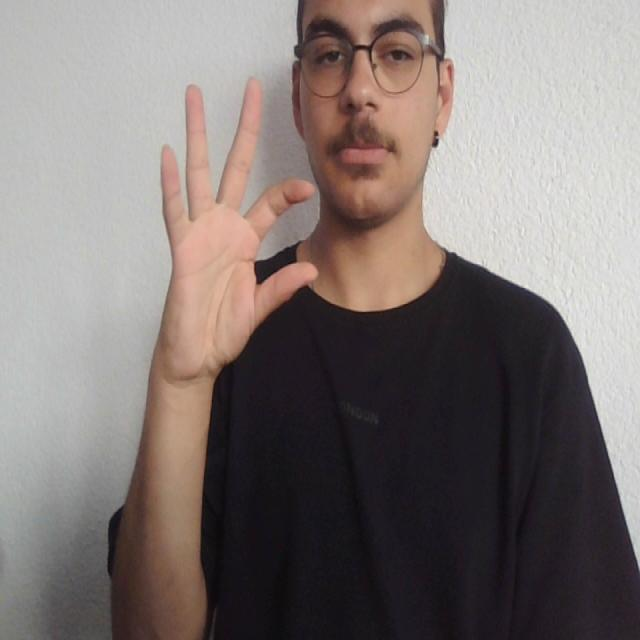Tuvalet: (148, 61, 318, 360)
